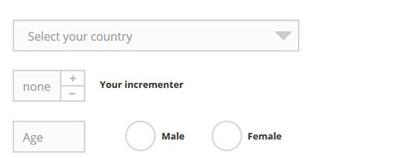field: (10, 17, 302, 54), (10, 120, 88, 154), (10, 69, 65, 102)
radio: (122, 119, 158, 153), (209, 120, 244, 151)
radio_with_label: (205, 118, 284, 154), (120, 119, 189, 154)
